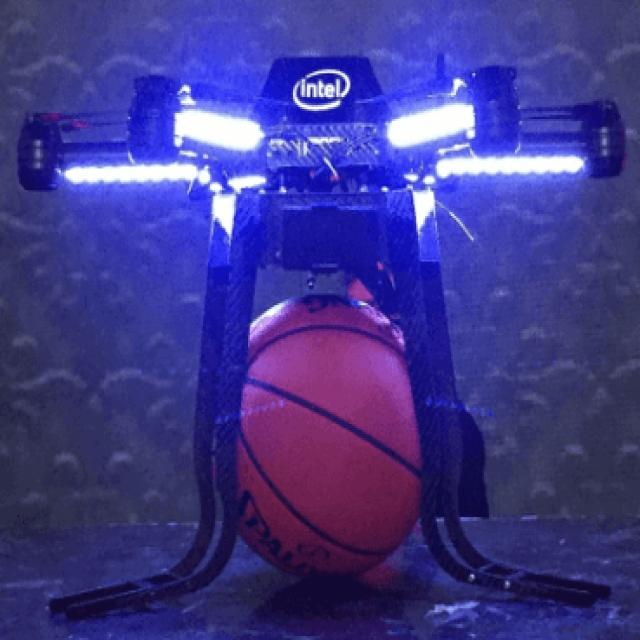drone: (26, 58, 640, 299)
